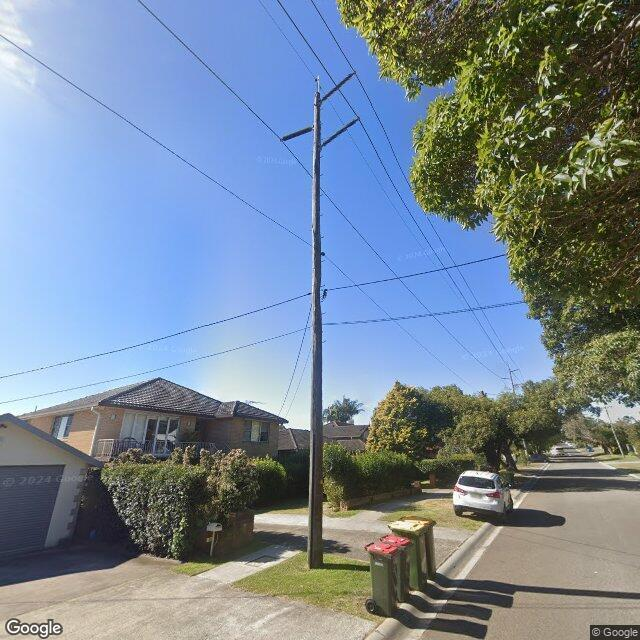HV-transmission: (280, 70, 360, 149), (501, 368, 523, 387)
timber-pole: (307, 91, 323, 570), (604, 405, 624, 457), (507, 364, 515, 395)
